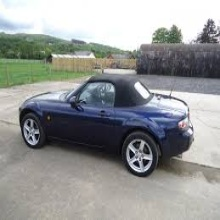no damage: (18, 73, 196, 178)
